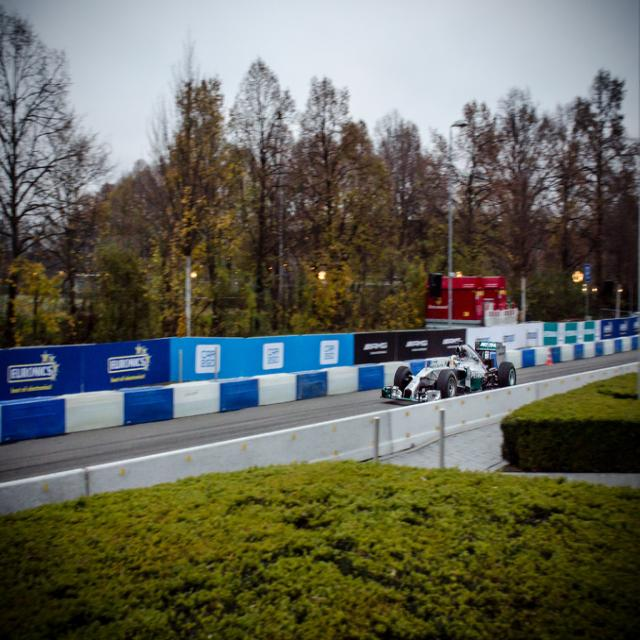car: (381, 348, 524, 405)
